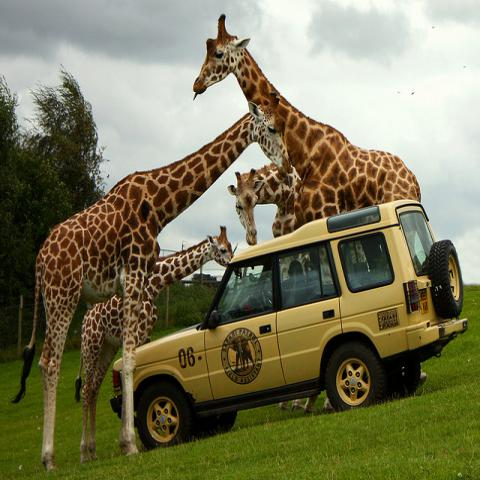car: (108, 197, 466, 450)
